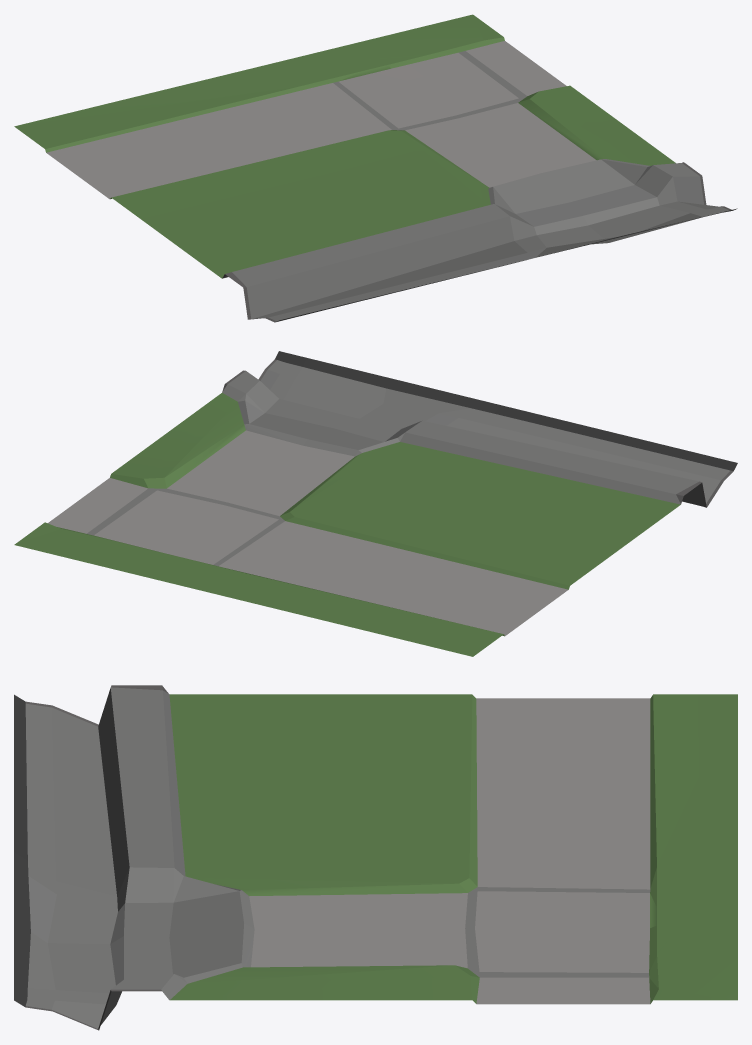
File: SM_Env_Sidewalk_Crossing_02.glb
The picture shows the model from 3 angles, top to bottom: view 1: azimuth 30°, elevation 25°; view 2: azimuth 150°, elevation 25°; view 3: azimuth 270°, elevation 25°; orthographic projection. The views are drawn at different scales.
Visible parts, largest first — view 1: SM_Env_Sidewalk_Crossing_02; view 2: SM_Env_Sidewalk_Crossing_02; view 3: SM_Env_Sidewalk_Crossing_02.
Boxes of the visible parts, x1=… form: SM_Env_Sidewalk_Crossing_02: x1=14, y1=14, x2=737, y2=322; SM_Env_Sidewalk_Crossing_02: x1=14, y1=351, x2=737, y2=656; SM_Env_Sidewalk_Crossing_02: x1=14, y1=685, x2=737, y2=1030.
Bounding box in the file's own units: 5 × 0.3 × 5.
1 material, 1 textured.
